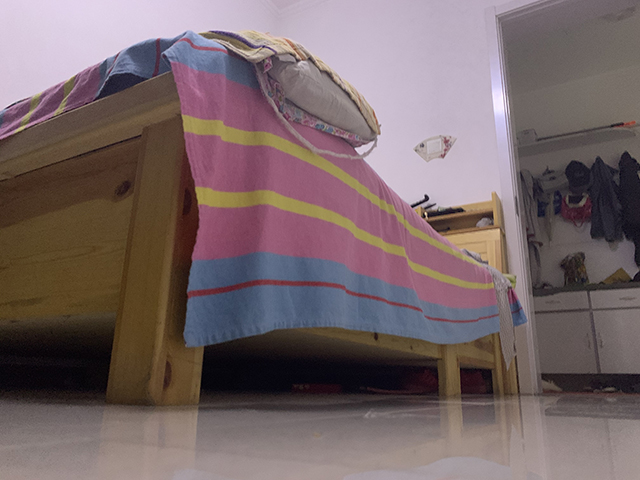bed: (1, 25, 531, 406)
cabinet: (530, 278, 640, 384)
